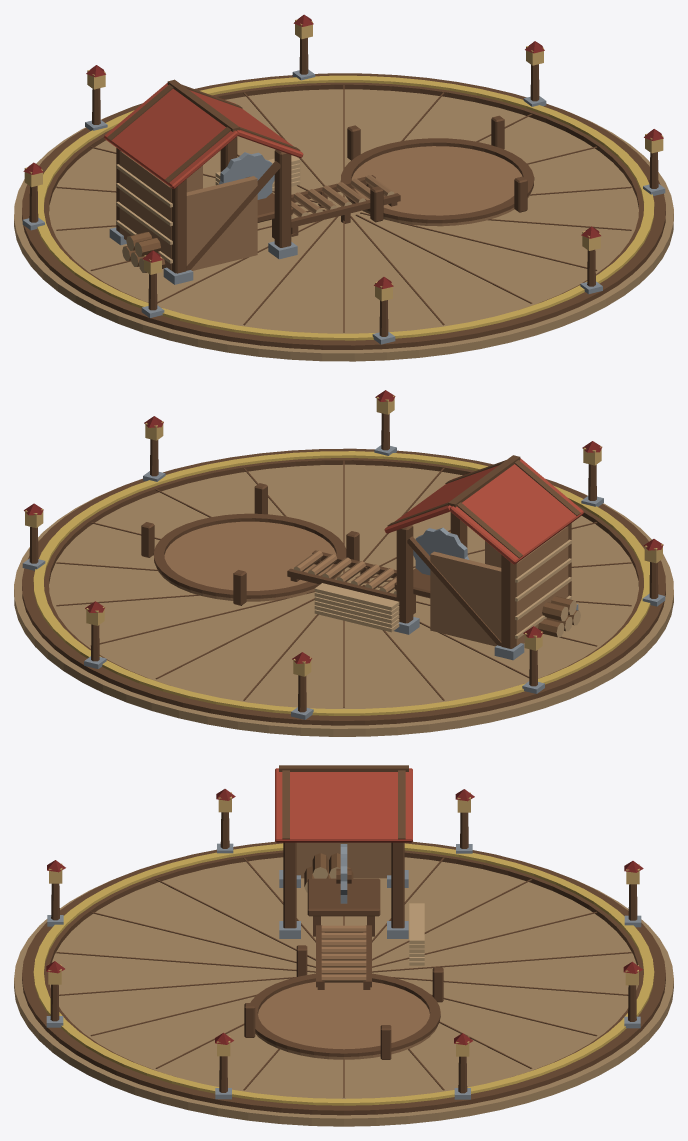
Rendered from prop_sawmill.glb.
The picture shows the model from 3 angles, top to bottom: view 1: azimuth 30°, elevation 25°; view 2: azimuth 150°, elevation 25°; view 3: azimuth 270°, elevation 25°; orthographic projection.
Parts seen in each view (by area): view 1: part_001_prop_sawmill; view 2: part_001_prop_sawmill; view 3: part_001_prop_sawmill.
Boxes of the visible parts, x1,y1,x2,y2 form: part_001_prop_sawmill: [14, 14, 673, 361]; part_001_prop_sawmill: [14, 390, 673, 736]; part_001_prop_sawmill: [14, 765, 673, 1126].
Size of the model in its own units: 20.8 by 5.28 by 20.8.
